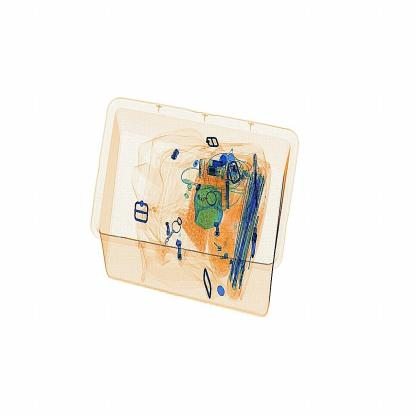knife: (250, 149, 262, 212)
